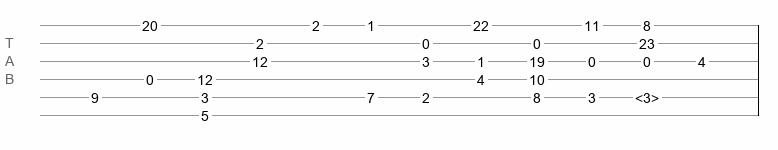0: (146, 72, 154, 82), (422, 36, 430, 46), (533, 36, 541, 46), (588, 54, 596, 64), (643, 54, 651, 64)
1: (367, 18, 375, 28), (477, 54, 485, 64)
10: (529, 72, 545, 82)
11: (584, 18, 600, 28)
12: (197, 72, 213, 82), (252, 54, 268, 64)
19: (529, 54, 545, 64)
2: (256, 36, 264, 46), (312, 18, 320, 28), (422, 90, 430, 100)
20: (142, 18, 158, 28)
22: (473, 18, 489, 28)
23: (639, 36, 655, 46)
3: (201, 90, 209, 100), (422, 54, 430, 64), (588, 90, 596, 100)
4: (477, 72, 485, 82), (698, 54, 706, 64)
5: (201, 108, 209, 118)
7: (367, 90, 375, 100)
8: (533, 90, 541, 100), (643, 18, 651, 28)
9: (91, 90, 99, 100)
harmonic: (635, 90, 659, 100)
